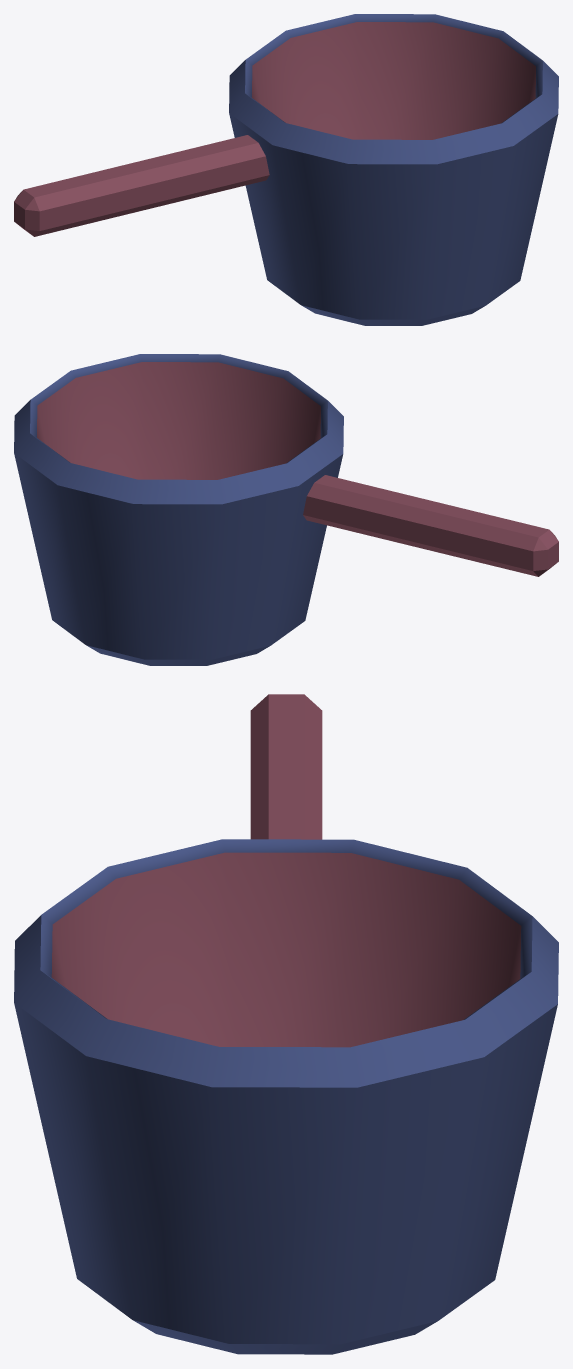
File: kastrull.fbx
3 renders of one model, top to bottom at view 1: azimuth 30°, elevation 25°; view 2: azimuth 150°, elevation 25°; view 3: azimuth 270°, elevation 25°, orthographic. The views are drawn at different scales.
Visible parts, largest first — view 1: kastrull; view 2: kastrull; view 3: kastrull.
Boxes of the visible parts, x1,y1,x2,y2 form: kastrull: (14, 14, 558, 325); kastrull: (14, 354, 558, 665); kastrull: (14, 694, 558, 1354).
Size of the model in its own units: 0.5383 by 0.2025 by 0.2973.
